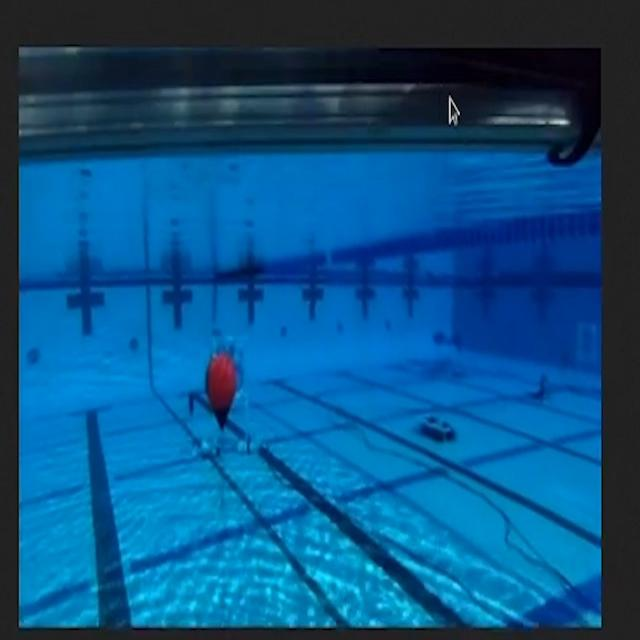Buoy: (202, 347, 241, 448)
